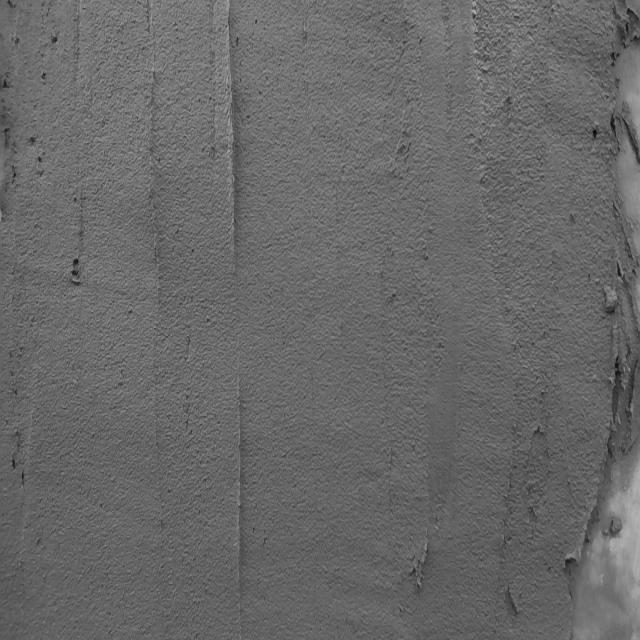trowels marks: (222, 3, 247, 640), (147, 9, 162, 313)
